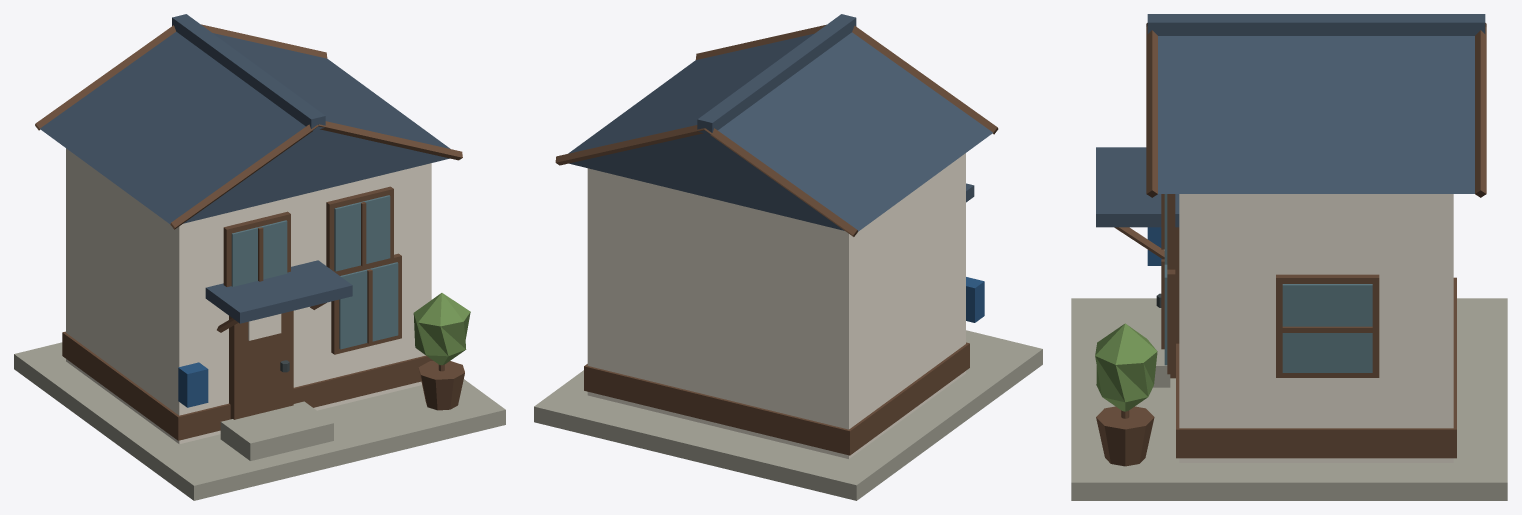
Rendered from house-a.glb.
3 renders of one model, left to right at view 1: azimuth 30°, elevation 25°; view 2: azimuth 150°, elevation 25°; view 3: azimuth 270°, elevation 25°, orthographic. The views are drawn at different scales.
Parts seen in each view (by area): view 1: RoofBlue, Ivory, Concrete, WoodDark, Window, Leaf, HarborBlue; view 2: Ivory, RoofBlue, Concrete, WoodDark, HarborBlue; view 3: RoofBlue, Ivory, Concrete, WoodDark, Window, Leaf.
Part boxes in pixels (<box>): RoofBlue: <box>40,14,450,323</box>; Ivory: <box>66,148,431,444</box>; Concrete: <box>14,342,505,500</box>; WoodDark: <box>35,24,464,440</box>; Window: <box>231,195,398,349</box>; Leaf: <box>413,293,470,365</box>; HarborBlue: <box>178,362,208,407</box>; Ivory: <box>587,153,965,458</box>; RoofBlue: <box>568,14,992,231</box>; Concrete: <box>534,330,1042,500</box>; WoodDark: <box>555,24,998,455</box>; HarborBlue: <box>966,277,984,322</box>; RoofBlue: <box>1096,14,1485,227</box>; Ivory: <box>1164,194,1453,462</box>; Concrete: <box>1071,298,1507,500</box>; WoodDark: <box>1096,23,1486,466</box>; Window: <box>1164,194,1372,372</box>; Leaf: <box>1095,323,1157,411</box>.
Size of the model in its own units: 1.94 by 1.91 by 1.94.
